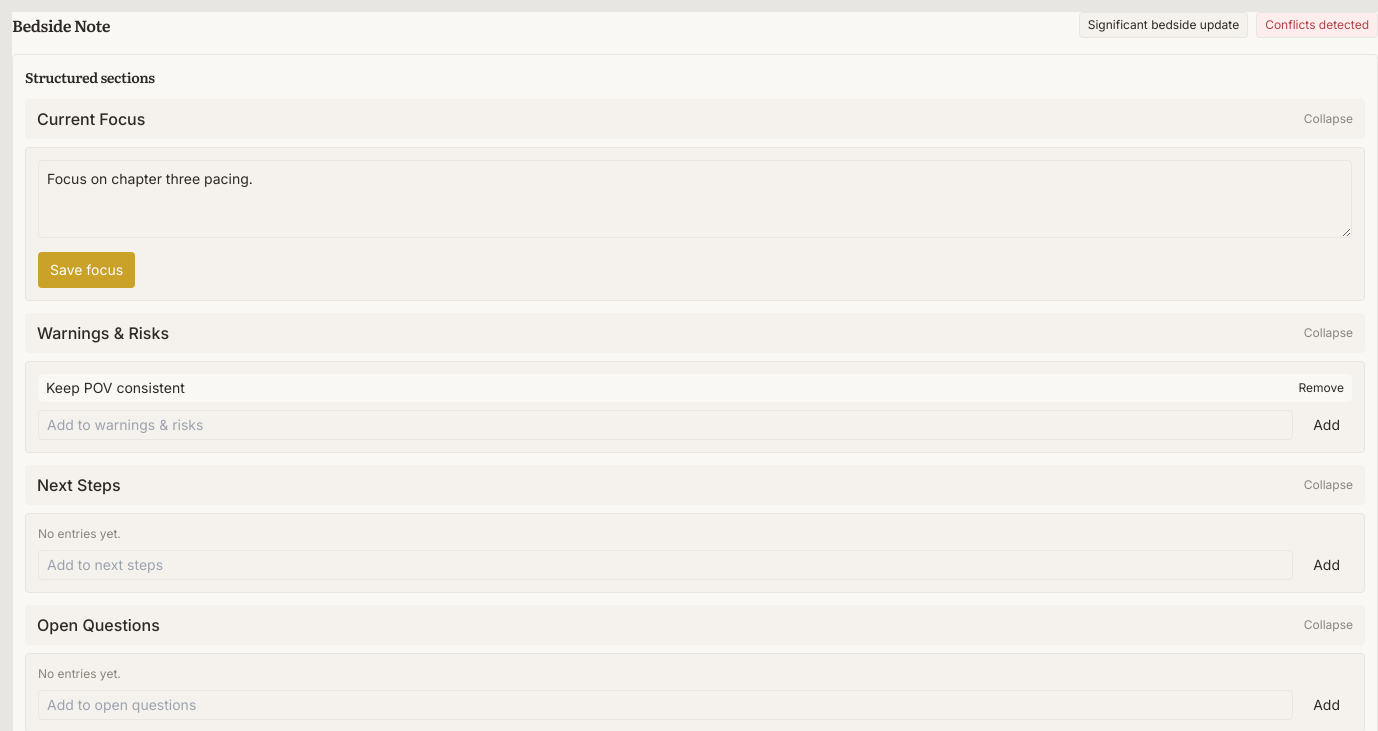
Test case: BedsideNotePanel › renders structured sections and allows collapsing
Expected: the text "Current Focus" is shown, [37,107,145,131]
Expected: the text "Keep POV consistent" is shown, [46,378,185,398]
Click the text "Warnings & Risks" at (103, 333), box [37,321,169,345]
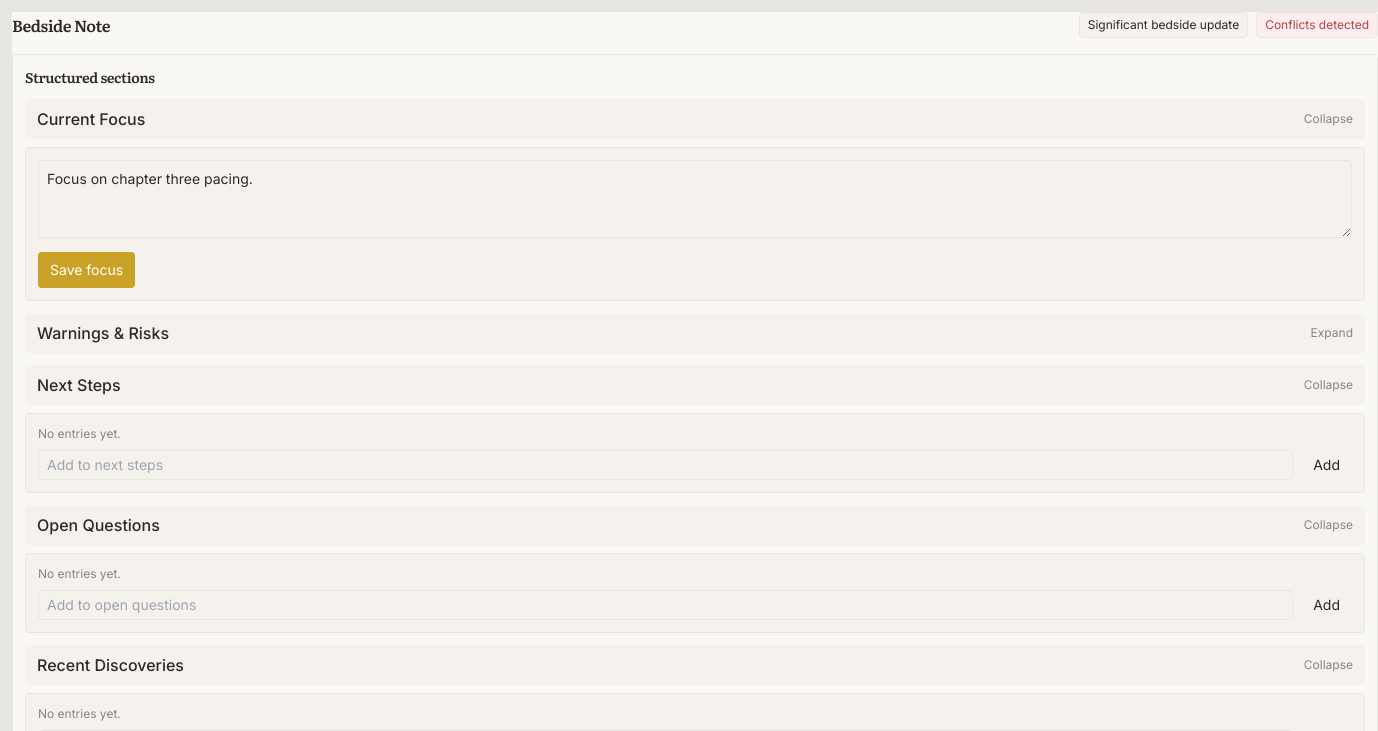
Now the text "Keep POV consistent" is gone
